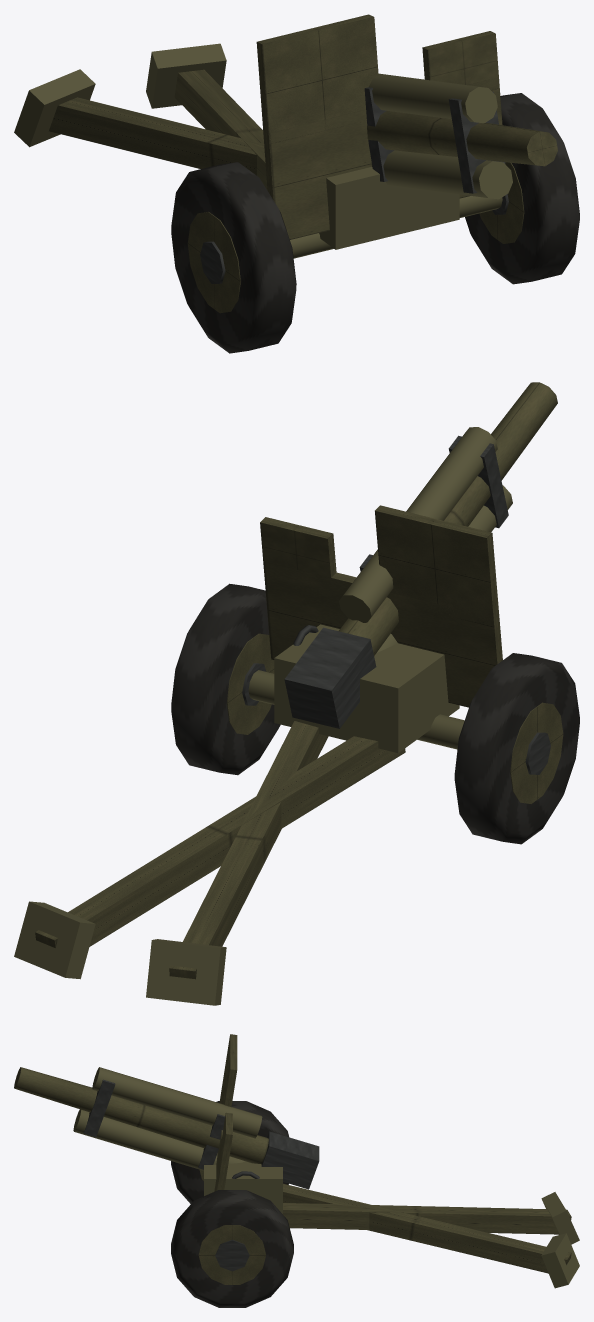
File: howitzer_m101_105mm_lod1.glb
3 renders of one model, top to bottom at view 1: azimuth 30°, elevation 25°; view 2: azimuth 150°, elevation 25°; view 3: azimuth 270°, elevation 25°, orthographic. The views are drawn at different scales.
Parts seen in each view (by area): view 1: Howitzer_105mm_M101A1; view 2: Howitzer_105mm_M101A1; view 3: Howitzer_105mm_M101A1.
Part boxes in pixels (x1,y1,x2,y2): Howitzer_105mm_M101A1: (14, 14, 579, 353); Howitzer_105mm_M101A1: (14, 382, 579, 1005); Howitzer_105mm_M101A1: (14, 1034, 579, 1307).
Size of the model in its own units: 2.22 by 1.92 by 5.16.
4 materials, 3 textured.
